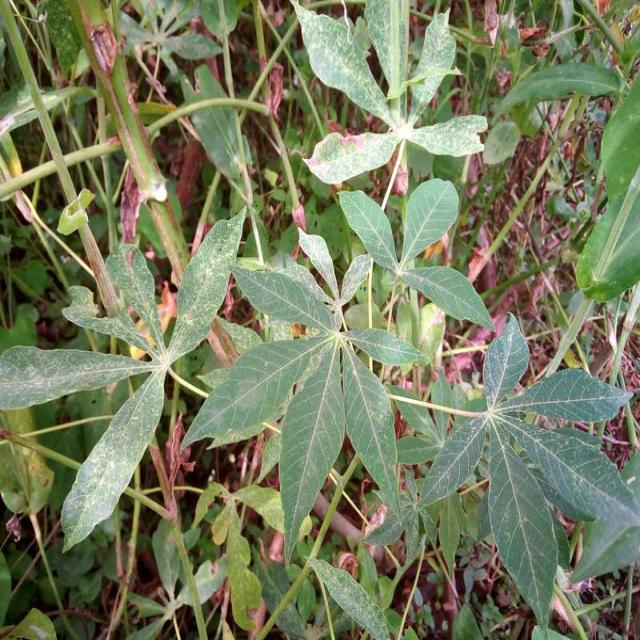cassava leaf: (1, 202, 248, 554), (179, 226, 427, 567), (418, 309, 638, 636)
